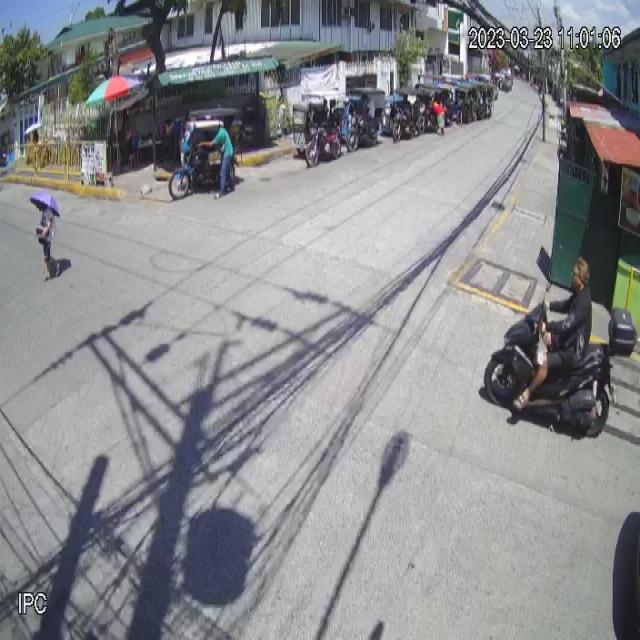Motorcycle: (482, 280, 636, 439)
